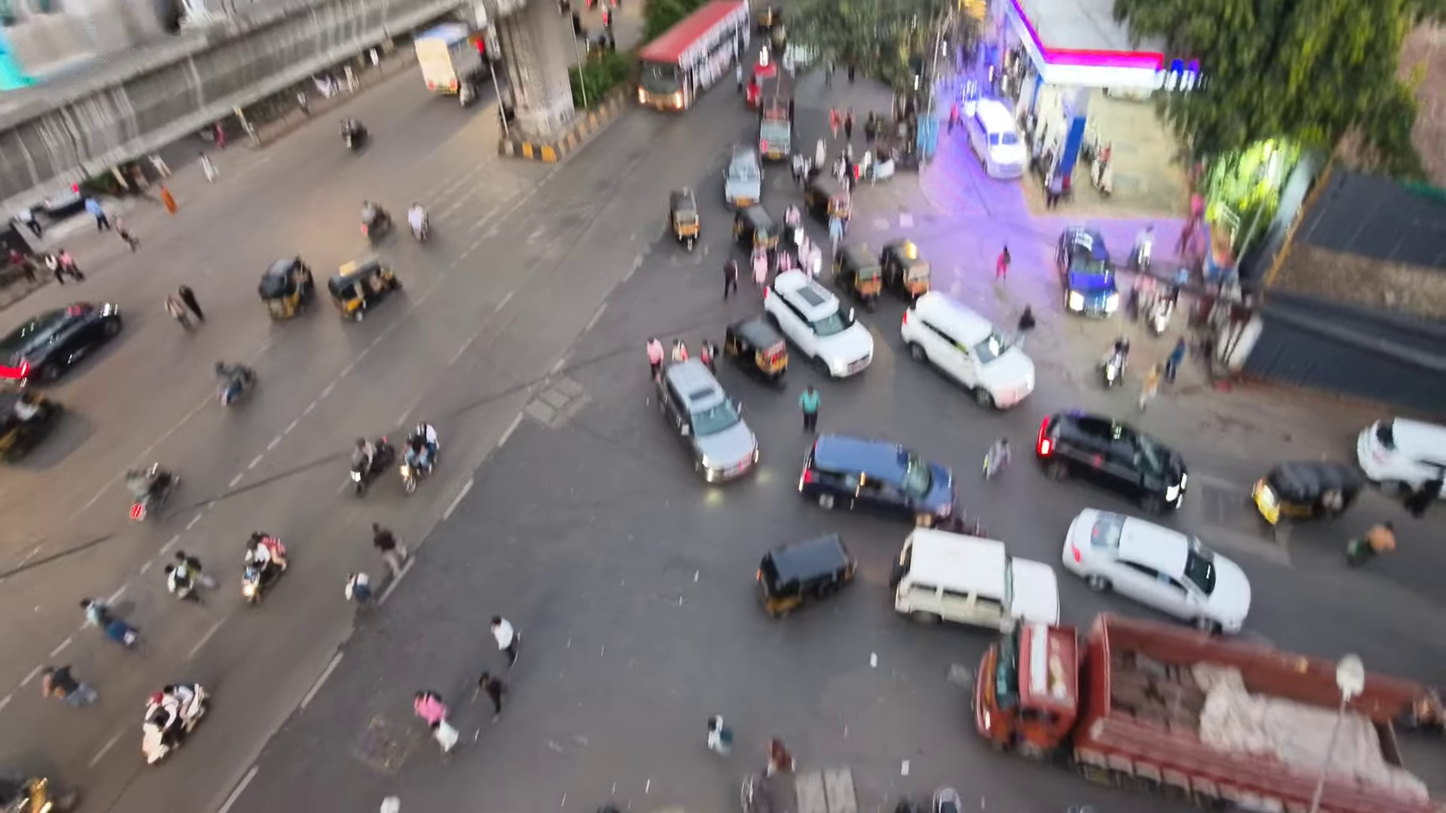driving: (972, 614, 1439, 812), (1061, 510, 1251, 633), (890, 528, 1060, 630), (900, 291, 1035, 408), (1035, 410, 1188, 513), (798, 435, 956, 525), (656, 359, 759, 483), (636, 0, 751, 111), (764, 270, 874, 377), (0, 302, 122, 382), (755, 533, 856, 618), (1252, 461, 1364, 525), (1356, 418, 1445, 493), (413, 22, 489, 105), (1056, 226, 1119, 317), (142, 684, 208, 764), (740, 767, 857, 812), (328, 254, 401, 321), (722, 316, 788, 388), (0, 388, 63, 461), (258, 256, 315, 319), (834, 243, 883, 311), (878, 239, 931, 301), (127, 462, 180, 521), (758, 72, 793, 160), (0, 775, 78, 812), (350, 436, 395, 496), (722, 145, 763, 208), (669, 187, 700, 251), (241, 562, 283, 605), (217, 363, 256, 406)
walking: (645, 291, 726, 379), (414, 691, 458, 753), (41, 665, 97, 708), (1404, 473, 1446, 519), (372, 523, 405, 577), (477, 671, 507, 720), (175, 552, 215, 588), (490, 617, 518, 668), (164, 565, 200, 602), (706, 714, 733, 756), (1164, 337, 1188, 383), (767, 738, 795, 775), (984, 438, 1009, 479), (164, 294, 192, 330), (1138, 365, 1160, 410), (1013, 306, 1036, 349), (56, 247, 84, 281), (799, 385, 819, 432), (178, 285, 204, 321), (84, 196, 111, 230), (344, 572, 371, 605), (114, 218, 139, 251), (14, 209, 42, 238), (751, 248, 767, 290), (723, 258, 738, 300), (1046, 171, 1063, 208), (828, 215, 843, 256), (44, 254, 63, 285), (148, 153, 171, 178), (199, 152, 218, 181), (996, 245, 1011, 279), (160, 185, 178, 213), (813, 139, 826, 171), (670, 339, 688, 362), (947, 101, 959, 132), (829, 108, 840, 139), (843, 108, 853, 141), (213, 122, 225, 149), (735, 61, 744, 93)
